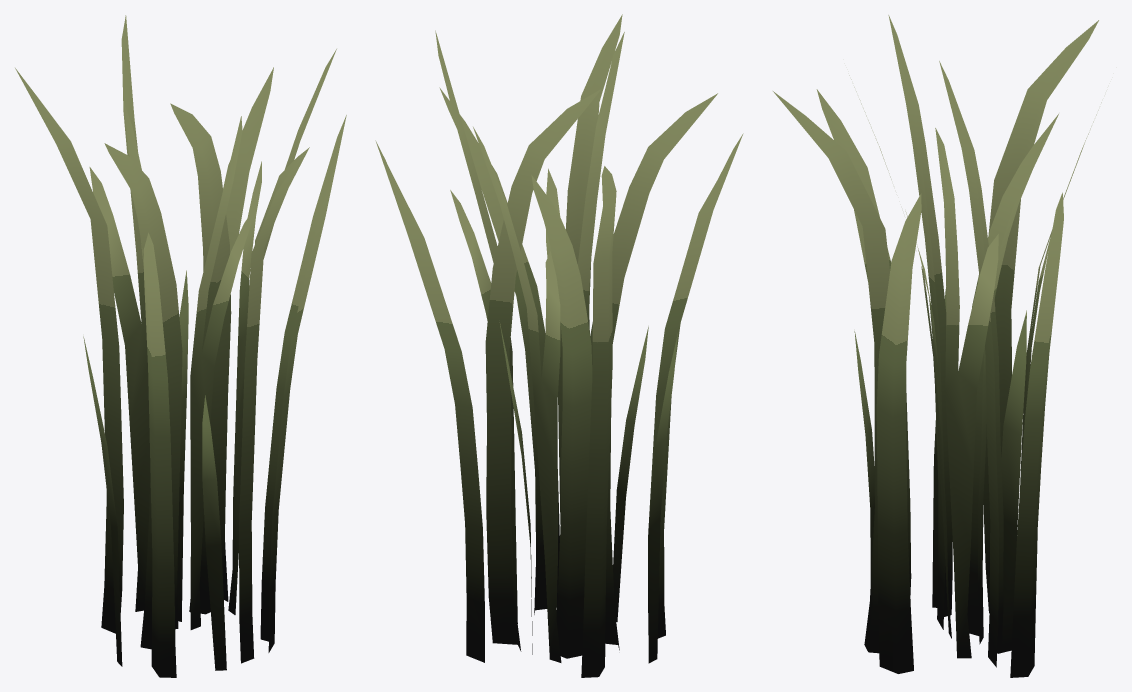
Rendered from reeds-broad-leaves.glb.
3 renders of one model, left to right at view 1: azimuth 30°, elevation 25°; view 2: azimuth 150°, elevation 25°; view 3: azimuth 270°, elevation 25°, orthographic. The views are drawn at different scales.
Visible parts, largest first — view 1: reeds-broad-leaves runtime mesh; view 2: reeds-broad-leaves runtime mesh; view 3: reeds-broad-leaves runtime mesh.
Part boxes in pixels (left/top/right/bottom): reeds-broad-leaves runtime mesh: left=15, top=15, right=346, bottom=677; reeds-broad-leaves runtime mesh: left=375, top=14, right=743, bottom=677; reeds-broad-leaves runtime mesh: left=773, top=15, right=1101, bottom=677.
Size of the model in its own units: 0.478 by 1 by 0.5303.
Materials: 1 (1 with a texture image).
